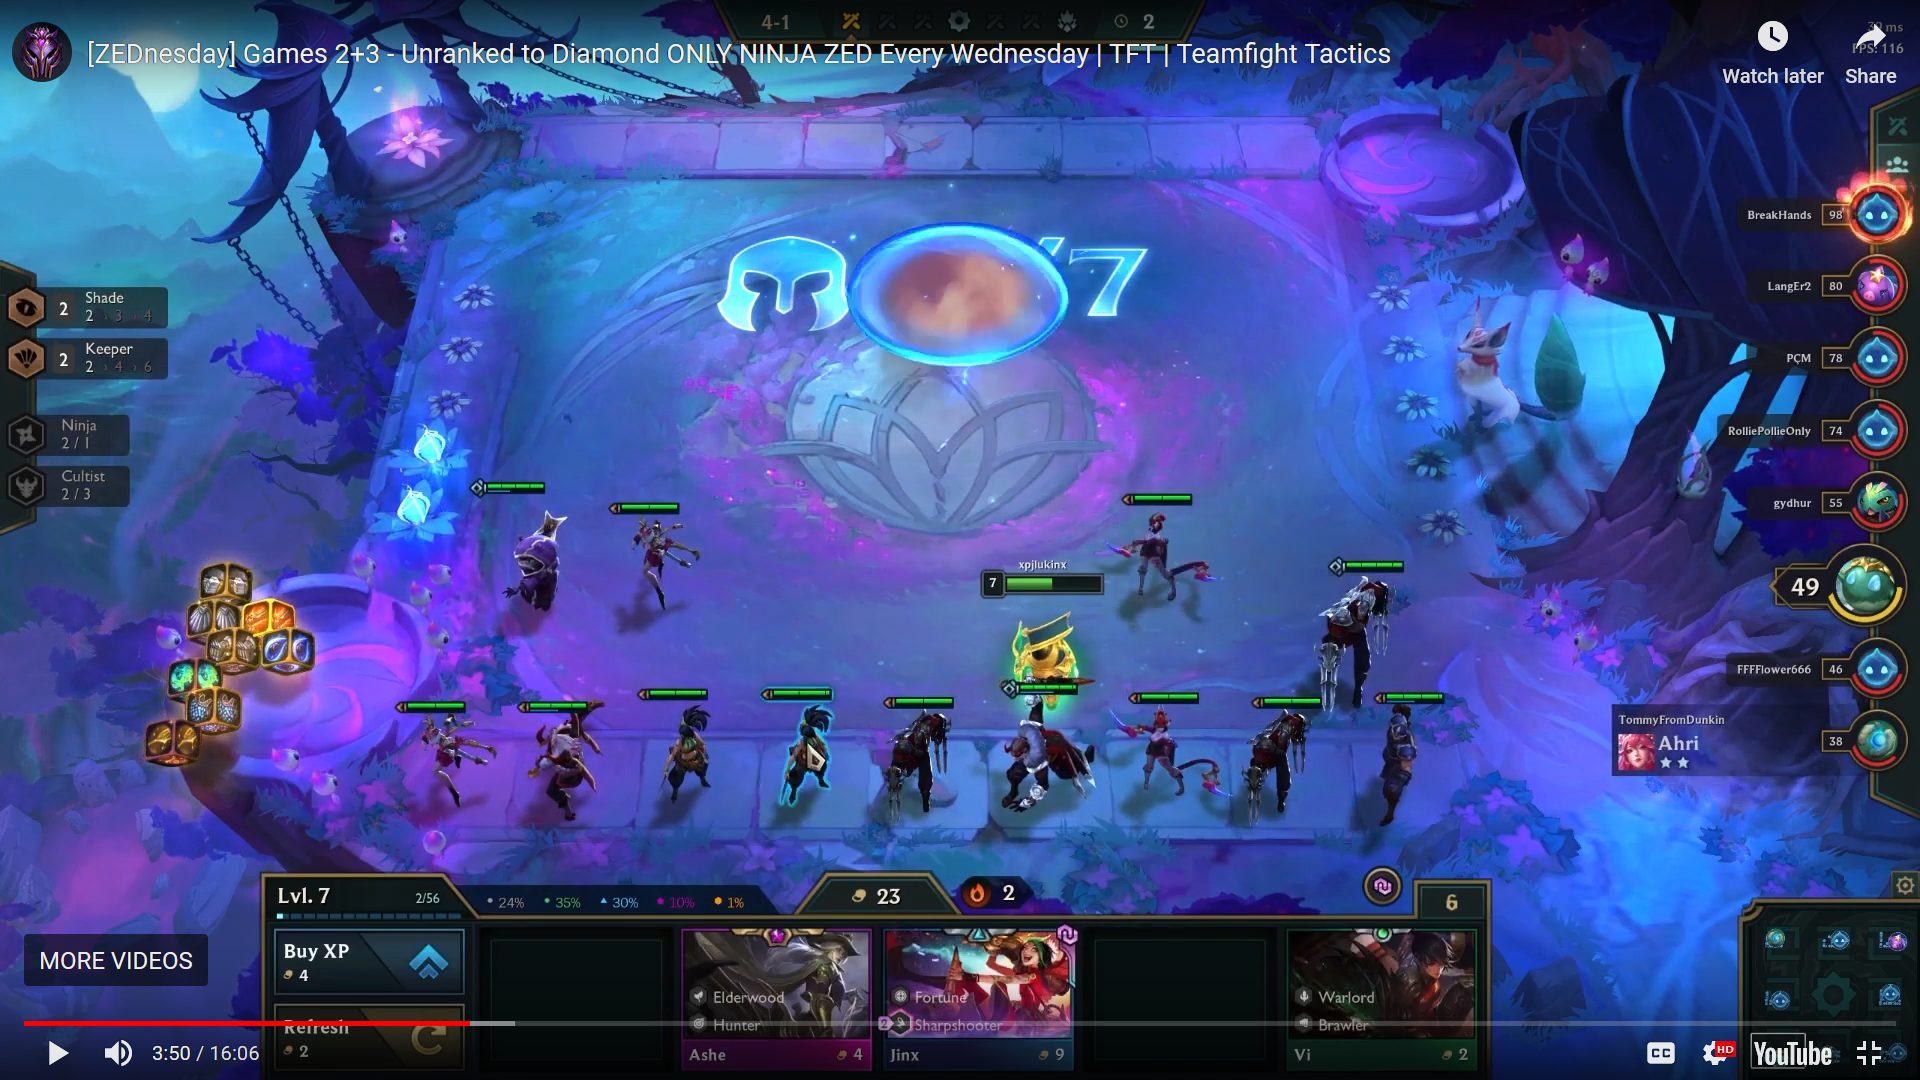1star_aatrox: (493, 691, 622, 837)
1star_akali: (729, 676, 858, 823), (611, 680, 740, 825)
1star_elise: (589, 495, 713, 625), (385, 692, 509, 822)
1star_evelynn: (1101, 682, 1232, 828), (1093, 477, 1222, 624)
1star_shen: (1338, 680, 1462, 837)
1star_zed: (855, 687, 985, 833), (1208, 688, 1338, 833)
2star_kennen: (448, 458, 583, 632)
2star_pyke: (980, 673, 1113, 833)
2star_zed: (1299, 546, 1424, 727)
cultist2: (1, 458, 179, 508)
trait_keeper2: (1, 334, 179, 385)
trait_ninja2: (1, 411, 179, 462)
trait_shade2: (1, 280, 179, 331)
